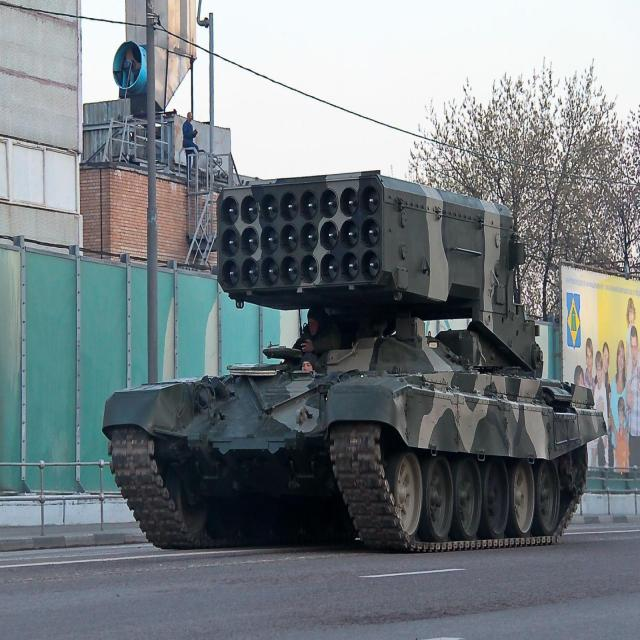Tanks: (87, 323, 595, 582)
